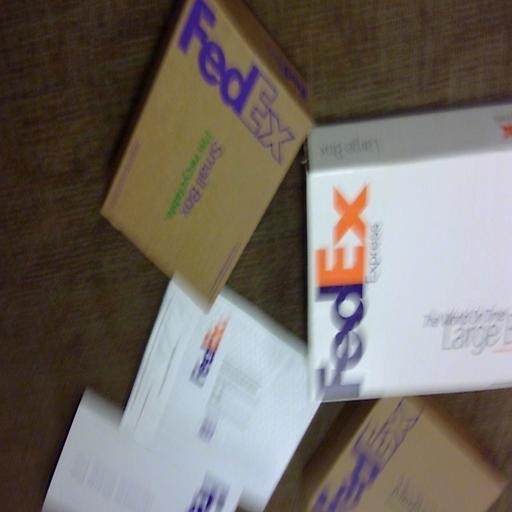Amazon: (113, 2, 304, 306), (303, 121, 512, 372), (121, 284, 317, 490), (310, 400, 501, 512)
